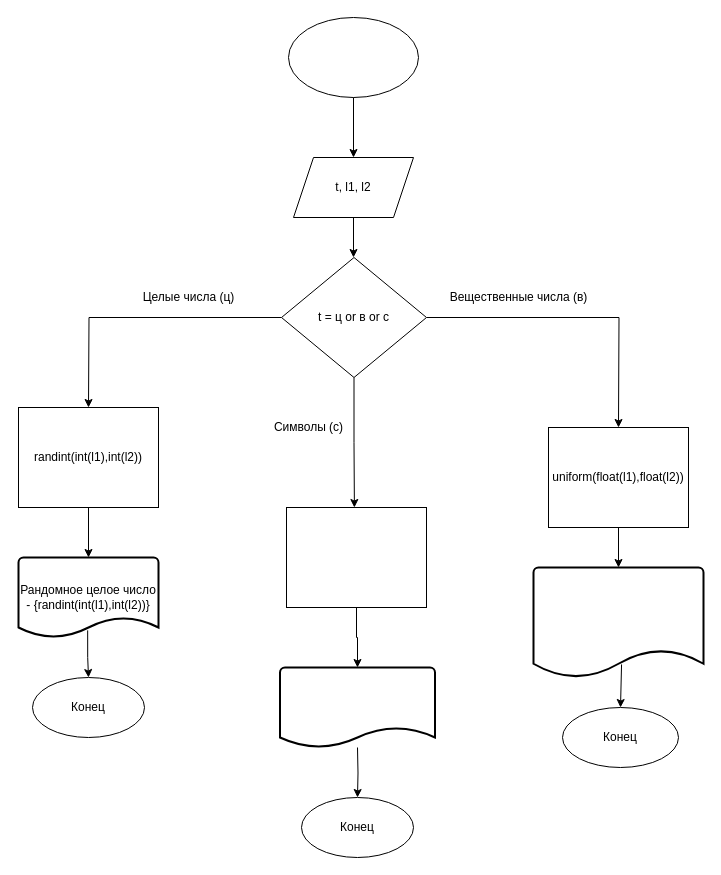
The diagram is 721 pixels wide and 875 high, and some of its shapes have lost their labels. The centre of each missing label's shape, as x and y in pixels:
chr(randint(ord(l1),ord(l2)): the point at 356,557
Начало: the point at 353,57
Рандомное вещественное число - {uniform(float(l1),float(l2))}: the point at 618,622
Рандомный символ - {chr(randint(ord(l1),ord(l2))}: the point at 357,707
